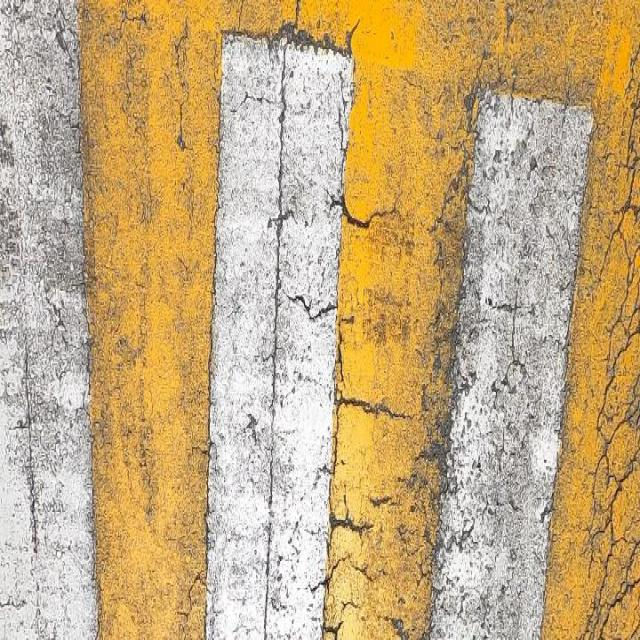cracks: (196, 1, 420, 640), (534, 3, 640, 639)
